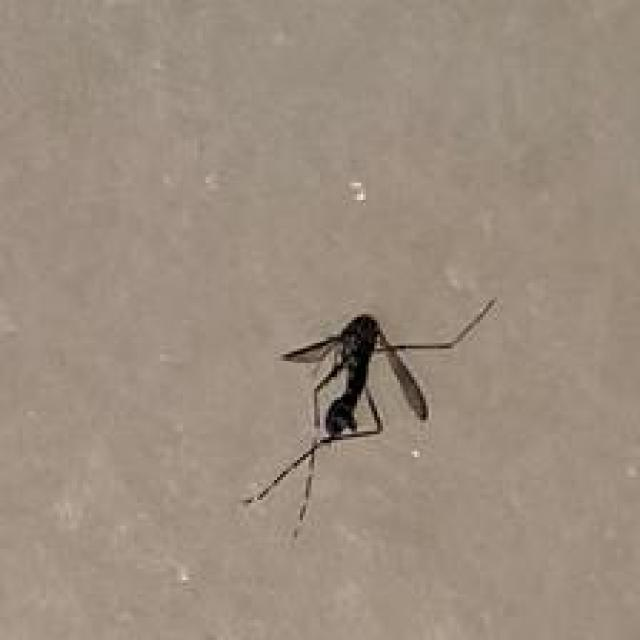Aedes albopictus: (242, 296, 498, 538)
